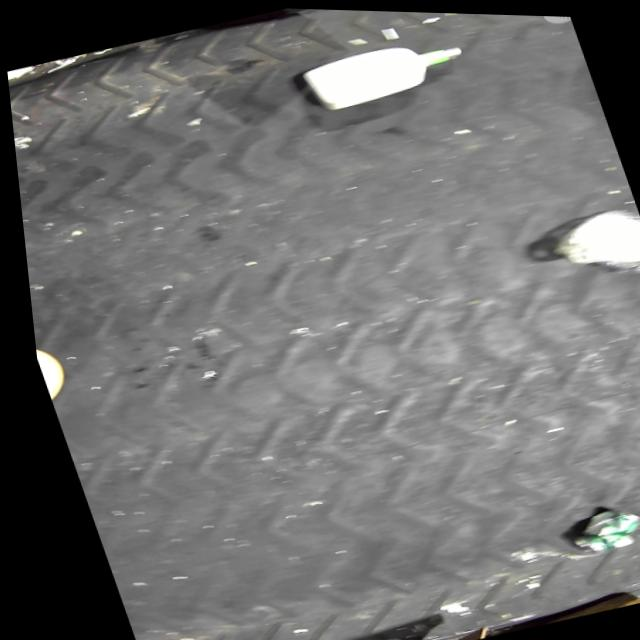can: (551, 495, 640, 555)
